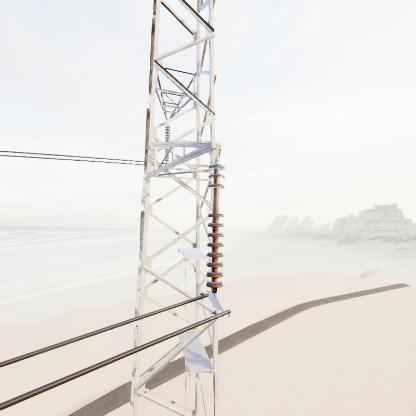insulator: (204, 161, 228, 296)
